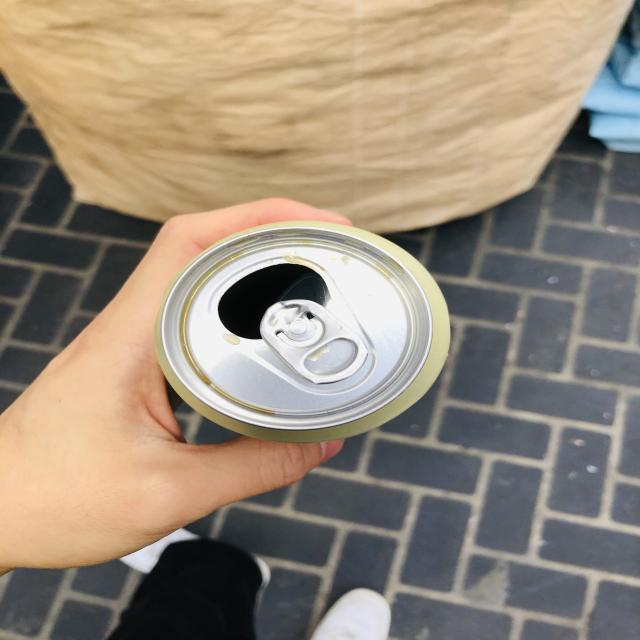Metal: (150, 210, 464, 449)
